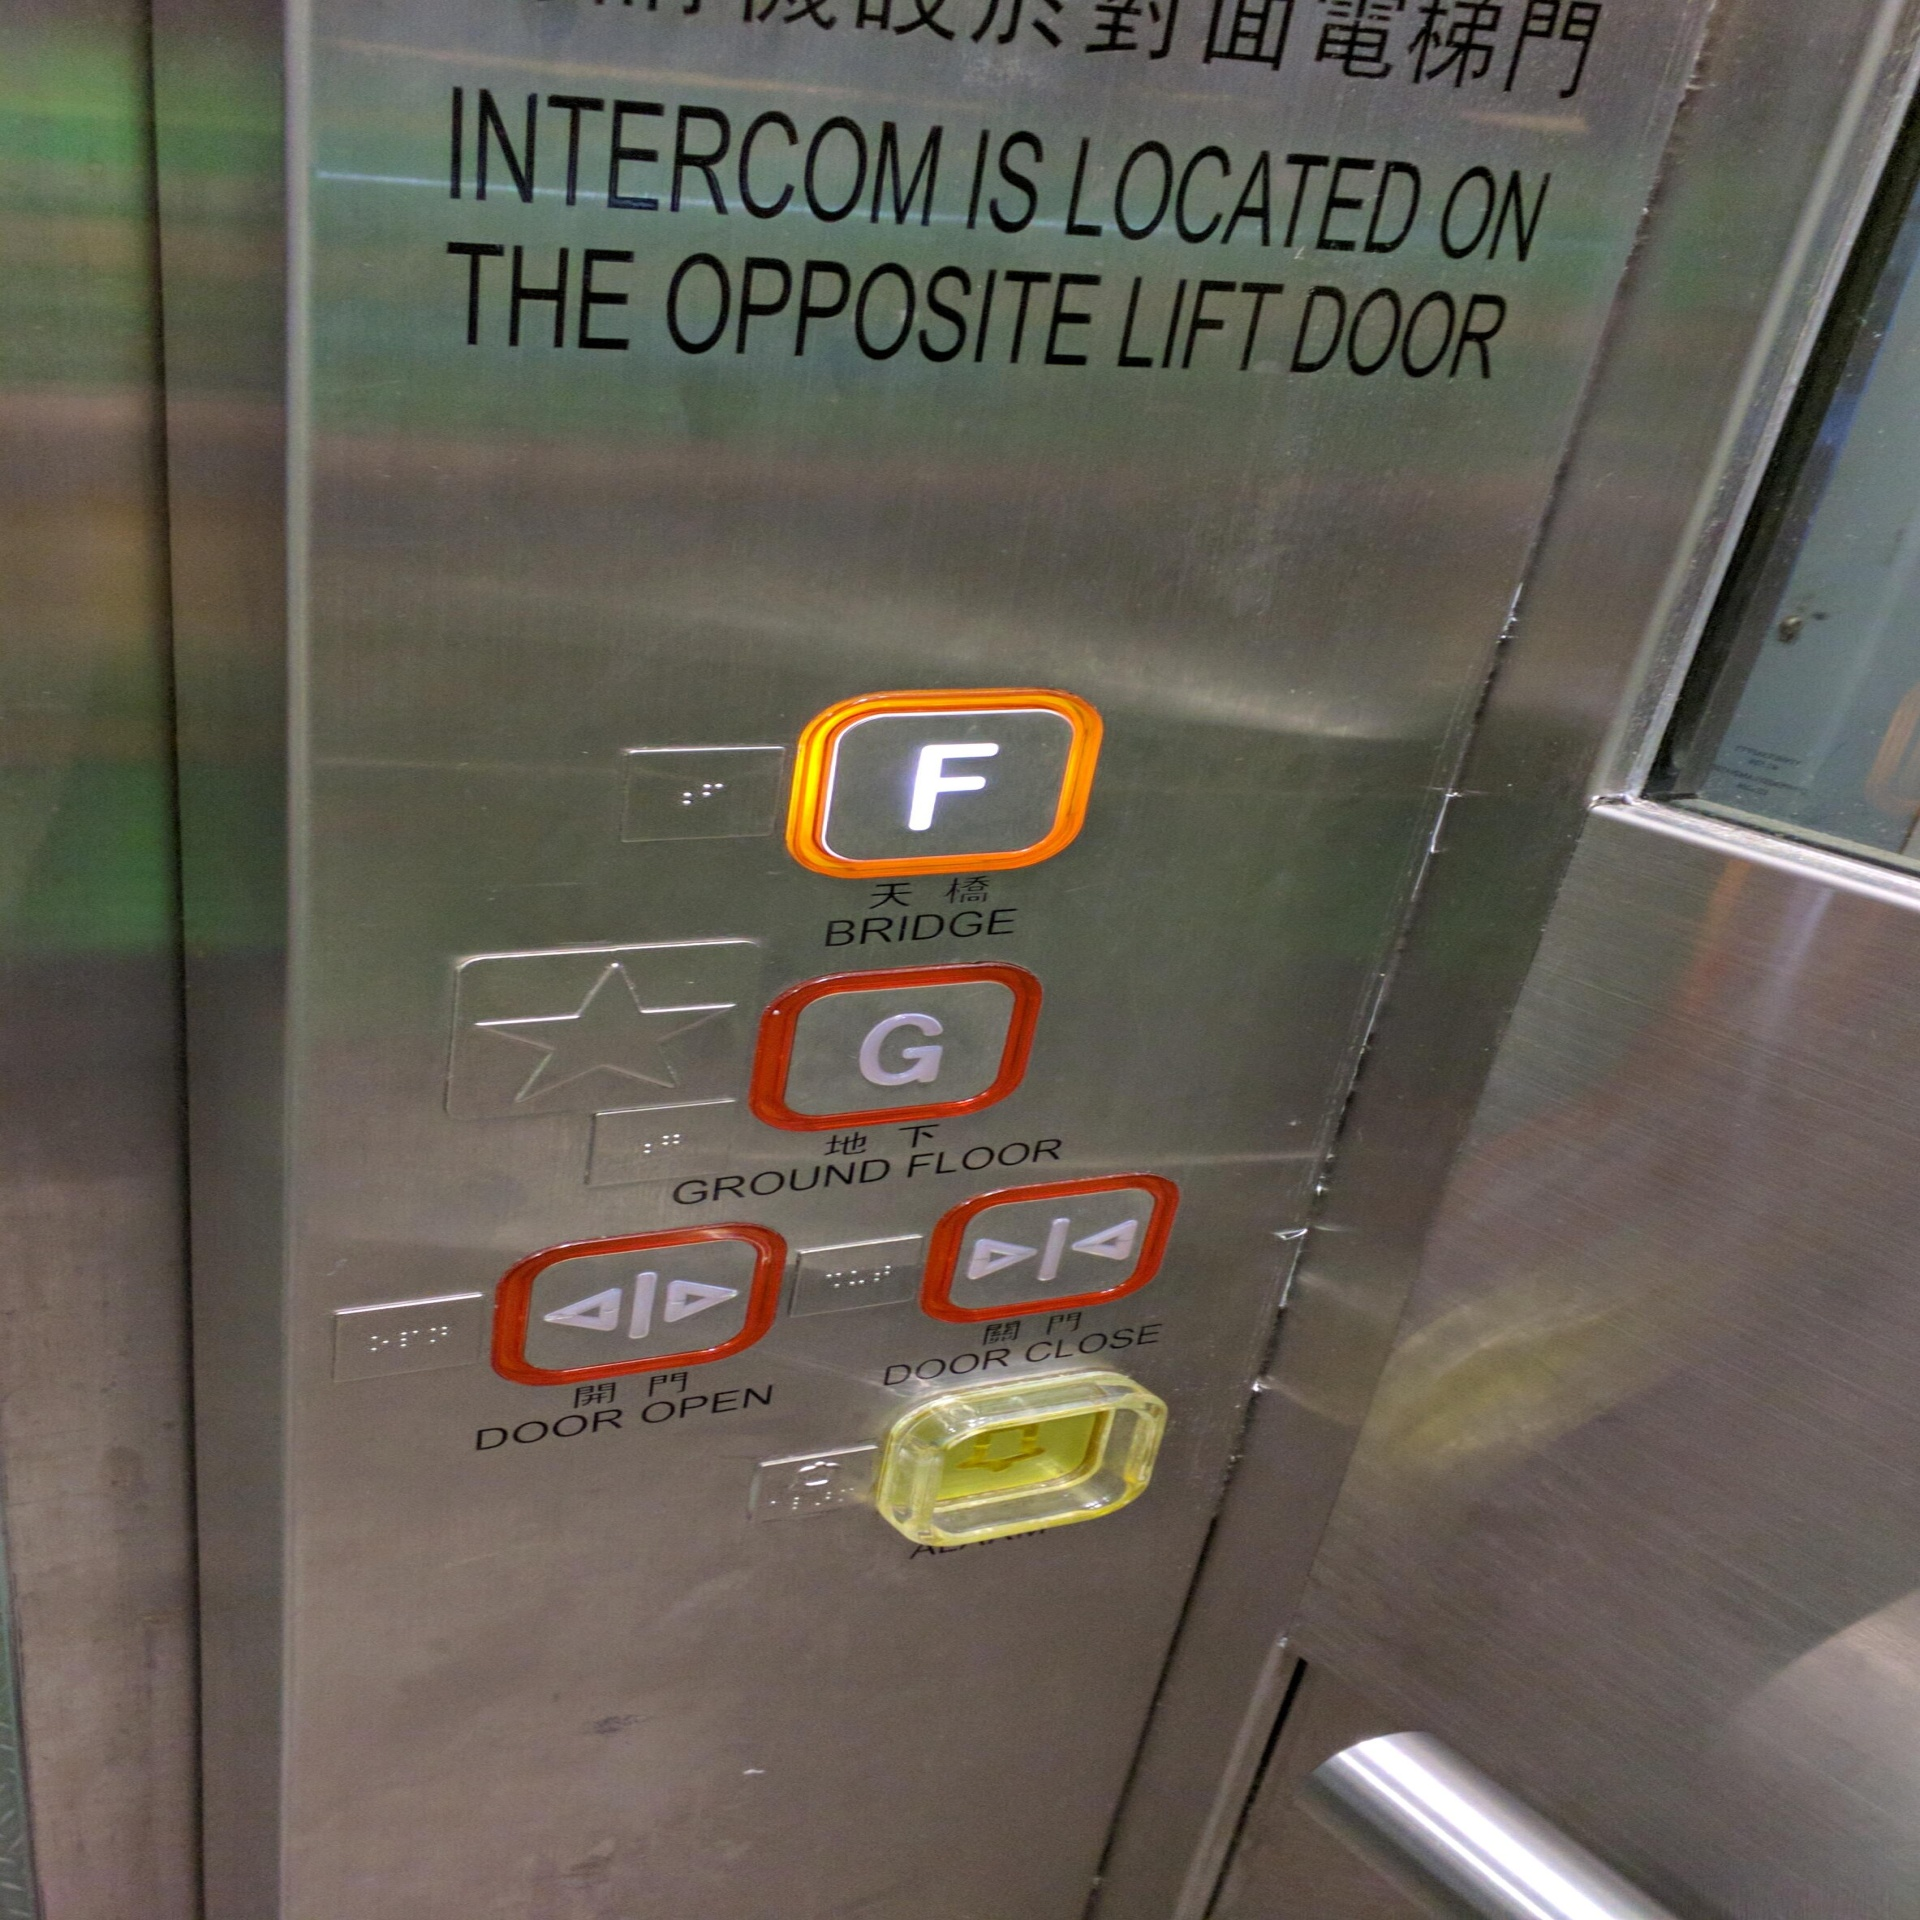F: (781, 687, 1104, 884)
G: (738, 953, 1046, 1141)
alarm: (921, 1394, 1125, 1530)
close: (913, 1160, 1187, 1333)
open: (484, 1218, 795, 1394)
s: (447, 918, 751, 1136)
